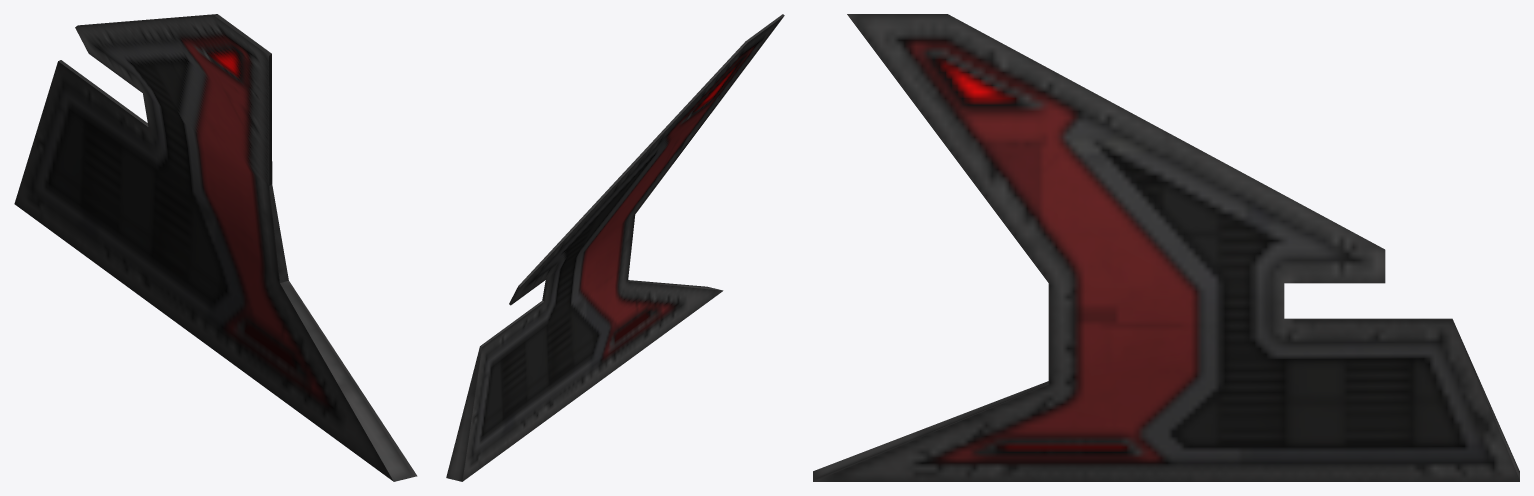
The model's file is BFP_UpperFinRear_Right.FBX.
3 renders of one model, left to right at view 1: azimuth 30°, elevation 25°; view 2: azimuth 150°, elevation 25°; view 3: azimuth 270°, elevation 25°, orthographic. The views are drawn at different scales.
Parts seen in each view (by area): view 1: BFP_UpperFinRear_Right; view 2: BFP_UpperFinRear_Right; view 3: BFP_UpperFinRear_Right.
Boxes of the visible parts, x1,y1,x2,y2 form: BFP_UpperFinRear_Right: (14, 14, 417, 481); BFP_UpperFinRear_Right: (446, 14, 784, 481); BFP_UpperFinRear_Right: (813, 14, 1519, 481).
Size of the model in its own units: 41.66 by 134 by 210.
Materials: 1 (1 with a texture image).
